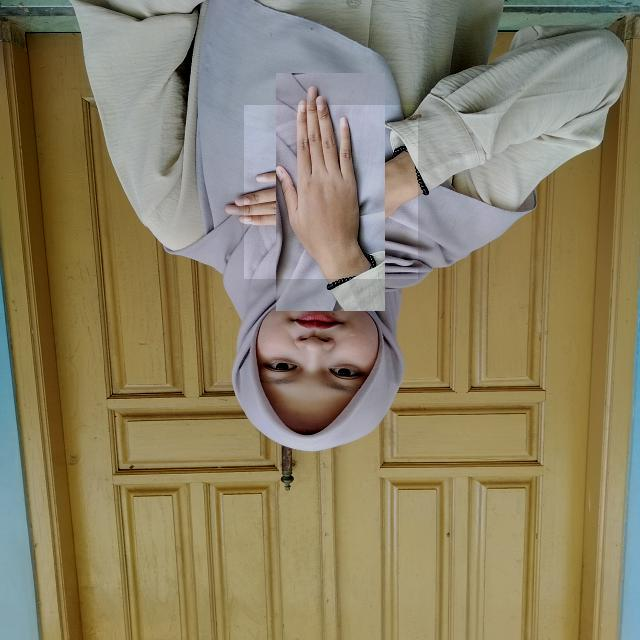tolong: (244, 105, 418, 279)
